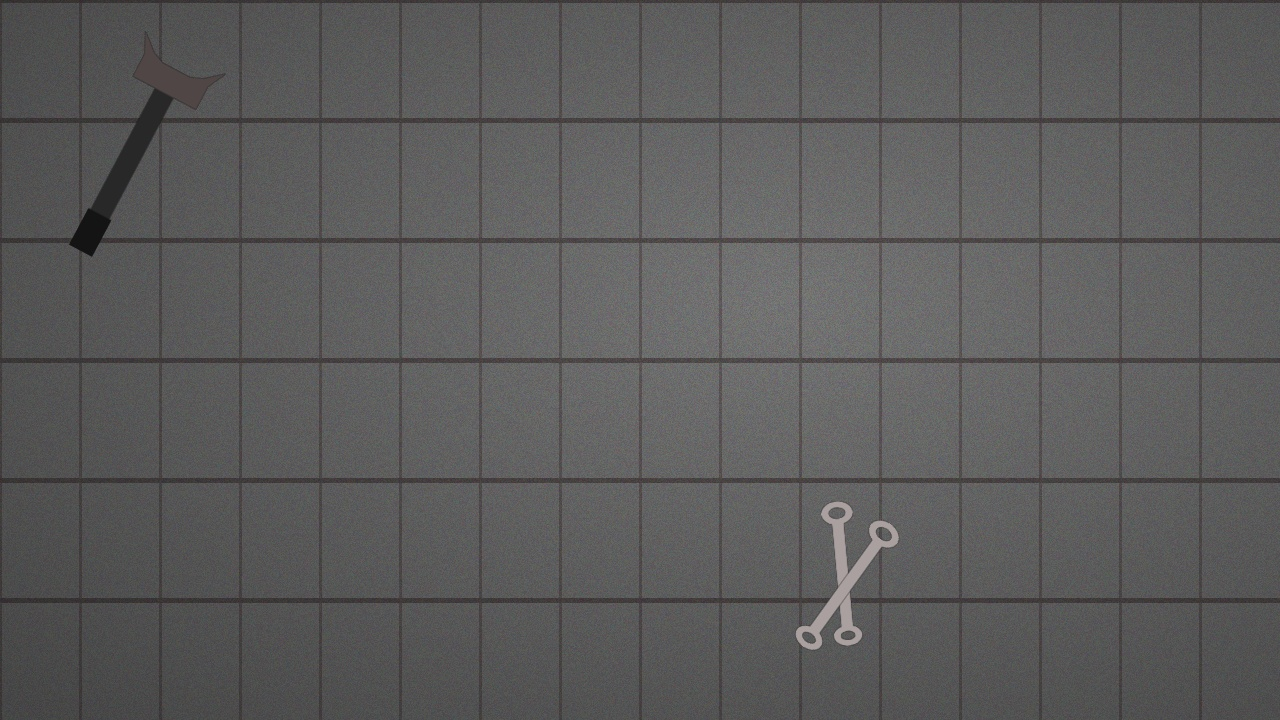hammer: (67, 29, 227, 258)
wrench: (793, 518, 901, 652), (818, 499, 864, 647)
